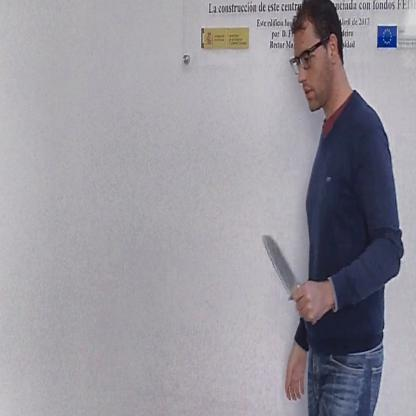knife: (257, 226, 316, 327)
